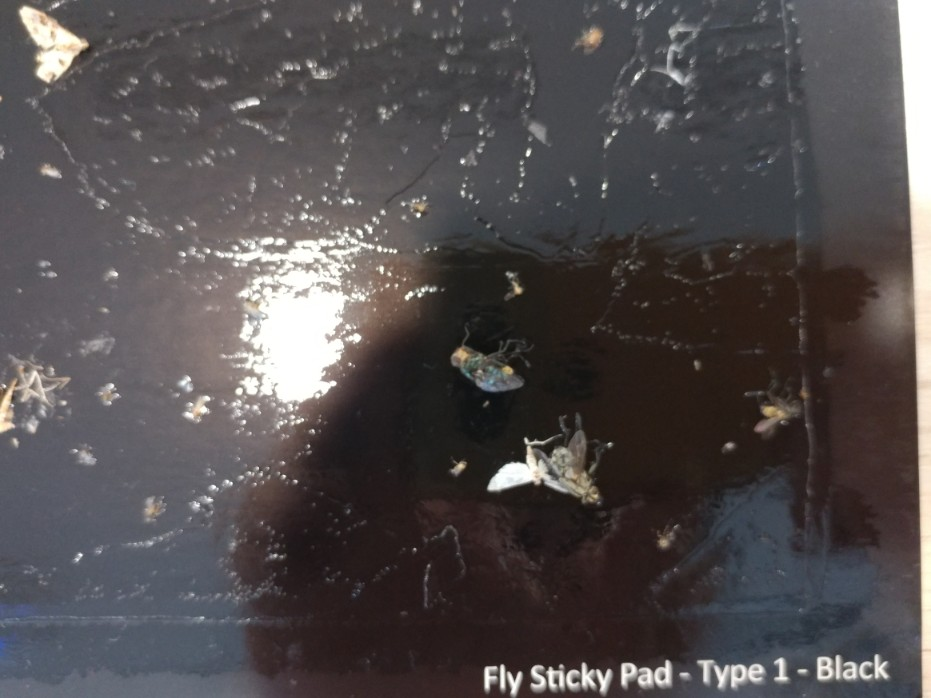fly: (481, 420, 640, 520), (441, 326, 551, 404)
moth: (17, 1, 99, 93)
